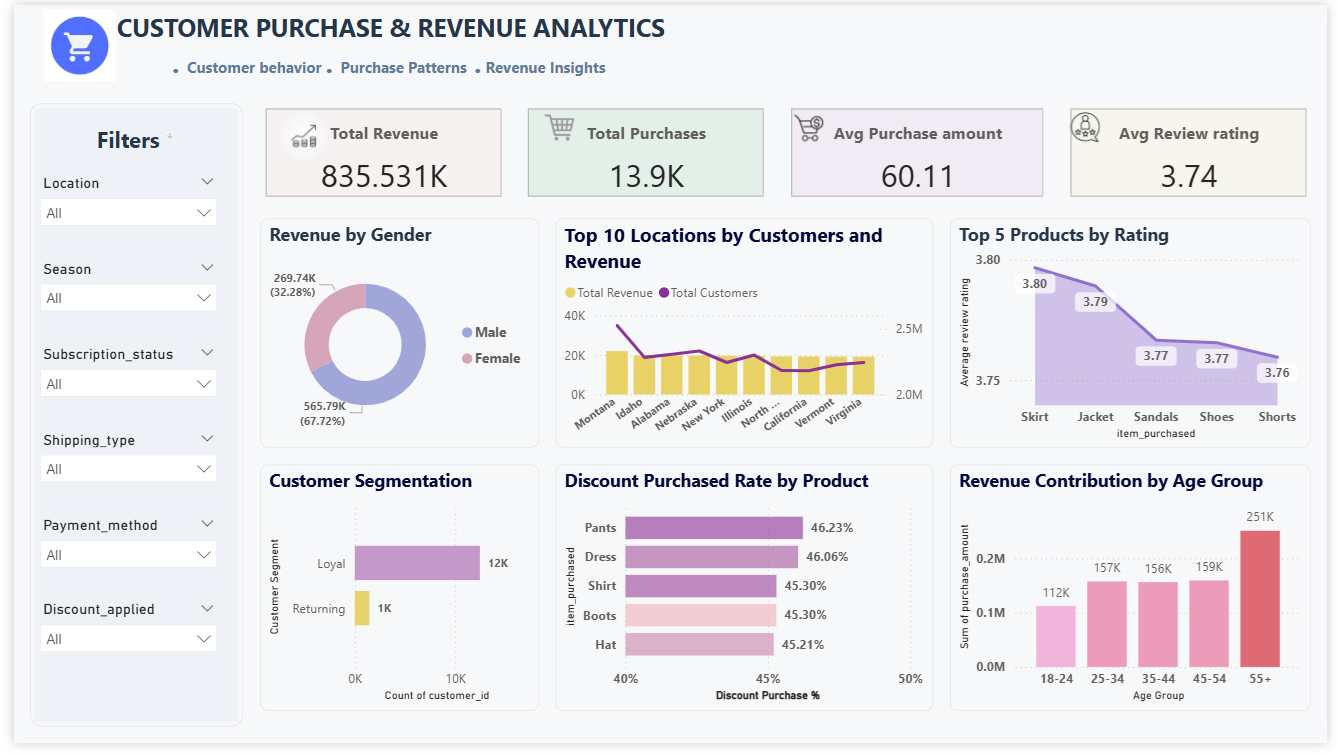

What the dashboard file says about the page in this screenshot:
{"tool":"powerbi","page":{"name":"Overview","canvas":[1280,720],"ordinal":0},"visuals":[{"type":"textbox","box":[16,0,704,80],"z":0},{"type":"image","box":[0,0,128,80],"z":1000},{"type":"shape","box":[16,96,208,608],"z":2000},{"type":"slicer","fields":{"Values":["customer_behavior.location"]},"box":[16,160,192,64],"z":3000},{"type":"slicer","fields":{"Values":["customer_behavior.season"]},"box":[16,243.2,192,64],"z":5000},{"type":"slicer","fields":{"Values":["customer_behavior.subscription_status"]},"box":[16,326.4,192,64],"z":6000},{"type":"slicer","fields":{"Values":["customer_behavior.shipping_type"]},"box":[16,409.6,192,64],"z":7000},{"type":"slicer","fields":{"Values":["customer_behavior.payment_method"]},"box":[16,492.8,192,64],"z":8000},{"type":"slicer","fields":{"Values":["customer_behavior.discount_applied"]},"box":[16,576,192,64],"z":9000},{"type":"textbox","box":[16,112,192,48],"z":10000},{"type":"cardVisual","fields":{"Data":["Sum(customer_behavior.purchase_amount)"]},"box":[240,96,240,96],"z":11000},{"type":"cardVisual","fields":{"Data":["CountNonNull(customer_behavior.customer_id)"]},"box":[496,96,240,96],"z":12000},{"type":"cardVisual","fields":{"Data":["Avg(customer_behavior.purchase_amount)"]},"box":[752,96,256,96],"z":13000},{"type":"cardVisual","fields":{"Data":["Avg(customer_behavior.review_rating)"]},"box":[1024,96,240,96],"z":14000},{"type":"donutChart","title":"Revenue by Gender","fields":{"Category":["customer_behavior.gender"],"Y":["Sum(customer_behavior.purchase_amount)"]},"box":[240,208,272,224],"z":15000},{"type":"lineStackedColumnComboChart","title":"Top 5 Products by Rating","fields":{"Category":["customer_behavior.item_purchased"],"Y2":["Avg(customer_behavior.review_rating)"]},"box":[912,208,352,224],"z":16000},{"type":"clusteredBarChart","title":"Discount Purchased Rate by Product","fields":{"Y":["customer_behavior.Discount Purchase %"],"Category":["customer_behavior.item_purchased"]},"box":[528,448,368,240],"z":17000},{"type":"clusteredBarChart","title":"Customer Segmentation","fields":{"Category":["customer_behavior.Customer Segment"],"Y":["Count(customer_behavior.customer_id)"]},"box":[240,448,272,240],"z":18000},{"type":"clusteredColumnChart","title":"Revenue Contribution by Age Group","fields":{"Category":["customer_behavior.Age Group"],"Y":["Sum(customer_behavior.purchase_amount)"]},"box":[912,448,352,240],"z":19000},{"type":"image","box":[144,96,16,64],"z":20000},{"type":"actionButton","box":[256,96,64,64],"z":21000},{"type":"actionButton","box":[512,96,48,48],"z":22000},{"type":"actionButton","box":[752,96,48,48],"z":23000},{"type":"actionButton","box":[1024,96,48,48],"z":24000},{"type":"lineClusteredColumnComboChart","title":" Top 10 Locations by Customers and  Revenue","fields":{"Category":["customer_behavior.location"],"Y":["Sum(customer_behavior.purchase_amount)"],"Y2":["Sum(customer_behavior.customer_id)"]},"box":[528,208,368,224],"z":25000}]}

Visuals, with their boxes in screenshot pixels (x1, y1, x2, y2), scaled from the page's 1280x720 canvas onto the 1338x755 screenshot:
textbox: 17,0,753,84
image: 0,0,134,84
shape: 17,101,234,738
slicer - customer_behavior.location: 17,168,217,235
slicer - customer_behavior.season: 17,255,217,322
slicer - customer_behavior.subscription_status: 17,342,217,409
slicer - customer_behavior.shipping_type: 17,430,217,497
slicer - customer_behavior.payment_method: 17,517,217,584
slicer - customer_behavior.discount_applied: 17,604,217,671
textbox: 17,117,217,168
cardVisual - Sum(customer_behavior.purchase_amount): 251,101,502,201
cardVisual - CountNonNull(customer_behavior.customer_id): 518,101,769,201
cardVisual - Avg(customer_behavior.purchase_amount): 786,101,1054,201
cardVisual - Avg(customer_behavior.review_rating): 1070,101,1321,201
"Revenue by Gender" donutChart: 251,218,535,453
"Top 5 Products by Rating" lineStackedColumnComboChart: 953,218,1321,453
"Discount Purchased Rate by Product" clusteredBarChart: 552,470,937,721
"Customer Segmentation" clusteredBarChart: 251,470,535,721
"Revenue Contribution by Age Group" clusteredColumnChart: 953,470,1321,721
image: 151,101,167,168
actionButton: 268,101,334,168
actionButton: 535,101,585,151
actionButton: 786,101,836,151
actionButton: 1070,101,1121,151
" Top 10 Locations by Customers and  Revenue" lineClusteredColumnComboChart: 552,218,937,453
